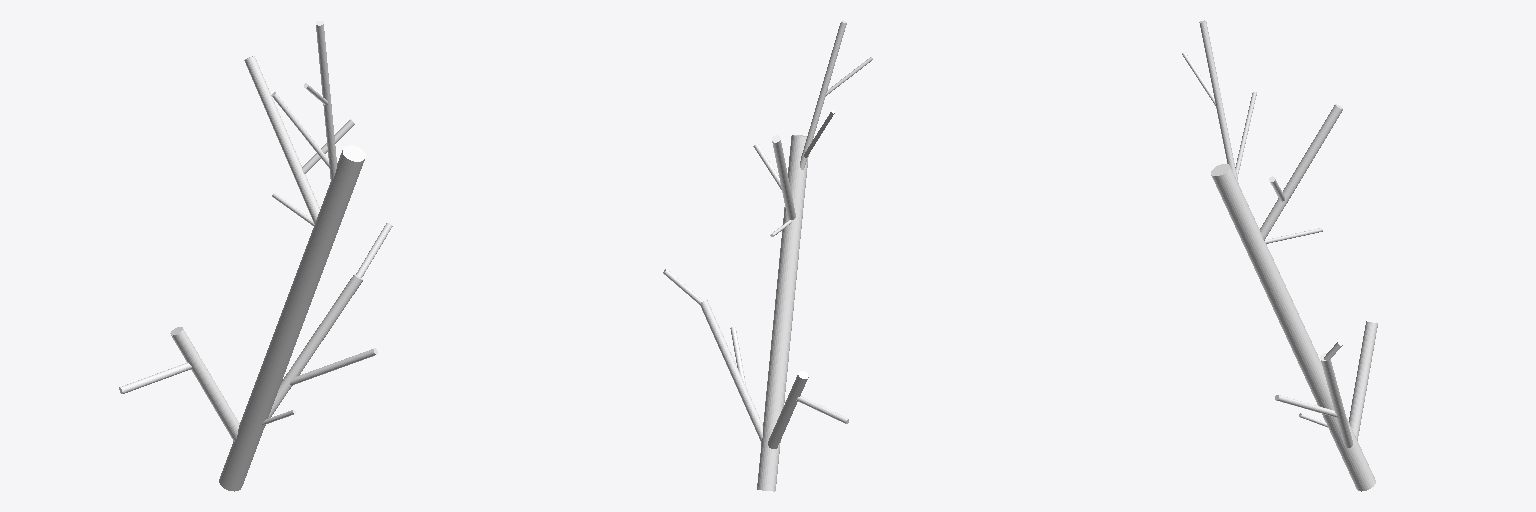
The robot description file, URDF, robot "tree_47.urdf":
<?xml version='1.0' encoding='UTF-8'?>
<robot name="tree_47.urdf">
  <link name="branch_0">
    <inertial>
      <origin xyz="0.0 0.0 0.0" rpy="0.0 -0.0 0.0"/>
      <mass value="1.0"/>
      <inertia ixx="1.0" ixy="0.0" ixz="0.0" iyy="1.0" iyz="0.0" izz="1.0"/>
    </inertial>
    <visual name="branch_0_visual">
      <geometry>
        <cylinder radius="0.20297303591351884" length="7.614582945326939"/>
      </geometry>
      <material name="branch_material"/>
      <origin xyz="0.3821555803479111 -1.4027548832091687 3.5187645854557754" rpy="-1.3877787807814457e-17 0.39181555129218987 -1.3048189551330494"/>
    </visual>
    <collision name="branch_0_collision">
      <geometry>
        <cylinder radius="0.20297303591351884" length="7.614582945326939"/>
      </geometry>
      <origin xyz="0.3821555803479111 -1.4027548832091687 3.5187645854557754" rpy="-1.3877787807814457e-17 0.39181555129218987 -1.3048189551330494"/>
    </collision>
  </link>
  <link name="branch_1">
    <inertial>
      <origin xyz="0.0 0.0 0.0" rpy="0.0 -0.0 0.0"/>
      <mass value="1.0"/>
      <inertia ixx="1.0" ixy="0.0" ixz="0.0" iyy="1.0" iyz="0.0" izz="1.0"/>
    </inertial>
    <visual name="branch_1_visual">
      <geometry>
        <cylinder radius="0.09334272414692758" length="3.5093246347252682"/>
      </geometry>
      <material name="branch_material"/>
      <origin xyz="0.0 0.0 0.0" rpy="0.0 -0.0 0.0"/>
    </visual>
    <collision name="branch_1_collision">
      <geometry>
        <cylinder radius="0.09334272414692758" length="3.5093246347252682"/>
      </geometry>
      <origin xyz="0.0 0.0 0.0" rpy="0.0 -0.0 0.0"/>
    </collision>
  </link>
  <link name="branch_2">
    <inertial>
      <origin xyz="0.0 0.0 0.0" rpy="0.0 -0.0 0.0"/>
      <mass value="1.0"/>
      <inertia ixx="1.0" ixy="0.0" ixz="0.0" iyy="1.0" iyz="0.0" izz="1.0"/>
    </inertial>
    <visual name="branch_2_visual">
      <geometry>
        <cylinder radius="0.058755766584249594" length="1.8037338163133265"/>
      </geometry>
      <material name="branch_material"/>
      <origin xyz="0.0 0.0 0.0" rpy="0.0 -0.0 0.0"/>
    </visual>
    <collision name="branch_2_collision">
      <geometry>
        <cylinder radius="0.058755766584249594" length="1.8037338163133265"/>
      </geometry>
      <origin xyz="0.0 0.0 0.0" rpy="0.0 -0.0 0.0"/>
    </collision>
  </link>
  <link name="branch_3">
    <inertial>
      <origin xyz="0.0 0.0 0.0" rpy="0.0 -0.0 0.0"/>
      <mass value="1.0"/>
      <inertia ixx="1.0" ixy="0.0" ixz="0.0" iyy="1.0" iyz="0.0" izz="1.0"/>
    </inertial>
    <visual name="branch_3_visual">
      <geometry>
        <cylinder radius="0.05971905265575855" length="1.15987380870914"/>
      </geometry>
      <material name="branch_material"/>
      <origin xyz="0.0 0.0 0.0" rpy="0.0 -0.0 0.0"/>
    </visual>
    <collision name="branch_3_collision">
      <geometry>
        <cylinder radius="0.05971905265575855" length="1.15987380870914"/>
      </geometry>
      <origin xyz="0.0 0.0 0.0" rpy="0.0 -0.0 0.0"/>
    </collision>
  </link>
  <link name="branch_4">
    <inertial>
      <origin xyz="0.0 0.0 0.0" rpy="0.0 -0.0 0.0"/>
      <mass value="1.0"/>
      <inertia ixx="1.0" ixy="0.0" ixz="0.0" iyy="1.0" iyz="0.0" izz="1.0"/>
    </inertial>
    <visual name="branch_4_visual">
      <geometry>
        <cylinder radius="0.11791970876996395" length="2.4790176174315763"/>
      </geometry>
      <material name="branch_material"/>
      <origin xyz="0.0 0.0 0.0" rpy="0.0 -0.0 0.0"/>
    </visual>
    <collision name="branch_4_collision">
      <geometry>
        <cylinder radius="0.11791970876996395" length="2.4790176174315763"/>
      </geometry>
      <origin xyz="0.0 0.0 0.0" rpy="0.0 -0.0 0.0"/>
    </collision>
  </link>
  <link name="branch_5">
    <inertial>
      <origin xyz="0.0 0.0 0.0" rpy="0.0 -0.0 0.0"/>
      <mass value="1.0"/>
      <inertia ixx="1.0" ixy="0.0" ixz="0.0" iyy="1.0" iyz="0.0" izz="1.0"/>
    </inertial>
    <visual name="branch_5_visual">
      <geometry>
        <cylinder radius="0.06402130539591318" length="1.4054515464013335"/>
      </geometry>
      <material name="branch_material"/>
      <origin xyz="0.0 0.0 0.0" rpy="0.0 -0.0 0.0"/>
    </visual>
    <collision name="branch_5_collision">
      <geometry>
        <cylinder radius="0.06402130539591318" length="1.4054515464013335"/>
      </geometry>
      <origin xyz="0.0 0.0 0.0" rpy="0.0 -0.0 0.0"/>
    </collision>
  </link>
  <link name="branch_6">
    <inertial>
      <origin xyz="0.0 0.0 0.0" rpy="0.0 -0.0 0.0"/>
      <mass value="1.0"/>
      <inertia ixx="1.0" ixy="0.0" ixz="0.0" iyy="1.0" iyz="0.0" izz="1.0"/>
    </inertial>
    <visual name="branch_6_visual">
      <geometry>
        <cylinder radius="0.040021287571716496" length="1.3178131335364924"/>
      </geometry>
      <material name="branch_material"/>
      <origin xyz="0.0 0.0 0.0" rpy="0.0 -0.0 0.0"/>
    </visual>
    <collision name="branch_6_collision">
      <geometry>
        <cylinder radius="0.040021287571716496" length="1.3178131335364924"/>
      </geometry>
      <origin xyz="0.0 0.0 0.0" rpy="0.0 -0.0 0.0"/>
    </collision>
  </link>
  <link name="branch_7">
    <inertial>
      <origin xyz="0.0 0.0 0.0" rpy="0.0 -0.0 0.0"/>
      <mass value="1.0"/>
      <inertia ixx="1.0" ixy="0.0" ixz="0.0" iyy="1.0" iyz="0.0" izz="1.0"/>
    </inertial>
    <visual name="branch_7_visual">
      <geometry>
        <cylinder radius="0.09481942845844499" length="3.191616999524881"/>
      </geometry>
      <material name="branch_material"/>
      <origin xyz="0.0 0.0 0.0" rpy="0.0 -0.0 0.0"/>
    </visual>
    <collision name="branch_7_collision">
      <geometry>
        <cylinder radius="0.09481942845844499" length="3.191616999524881"/>
      </geometry>
      <origin xyz="0.0 0.0 0.0" rpy="0.0 -0.0 0.0"/>
    </collision>
  </link>
  <link name="branch_8">
    <inertial>
      <origin xyz="0.0 0.0 0.0" rpy="0.0 -0.0 0.0"/>
      <mass value="1.0"/>
      <inertia ixx="1.0" ixy="0.0" ixz="0.0" iyy="1.0" iyz="0.0" izz="1.0"/>
    </inertial>
    <visual name="branch_8_visual">
      <geometry>
        <cylinder radius="0.05836546061170544" length="1.2664888906709098"/>
      </geometry>
      <material name="branch_material"/>
      <origin xyz="0.0 0.0 0.0" rpy="0.0 -0.0 0.0"/>
    </visual>
    <collision name="branch_8_collision">
      <geometry>
        <cylinder radius="0.05836546061170544" length="1.2664888906709098"/>
      </geometry>
      <origin xyz="0.0 0.0 0.0" rpy="0.0 -0.0 0.0"/>
    </collision>
  </link>
  <link name="branch_9">
    <inertial>
      <origin xyz="0.0 0.0 0.0" rpy="0.0 -0.0 0.0"/>
      <mass value="1.0"/>
      <inertia ixx="1.0" ixy="0.0" ixz="0.0" iyy="1.0" iyz="0.0" izz="1.0"/>
    </inertial>
    <visual name="branch_9_visual">
      <geometry>
        <cylinder radius="0.04" length="1.296003652010767"/>
      </geometry>
      <material name="branch_material"/>
      <origin xyz="0.0 0.0 0.0" rpy="0.0 -0.0 0.0"/>
    </visual>
    <collision name="branch_9_collision">
      <geometry>
        <cylinder radius="0.04" length="1.296003652010767"/>
      </geometry>
      <origin xyz="0.0 0.0 0.0" rpy="0.0 -0.0 0.0"/>
    </collision>
  </link>
  <link name="branch_10">
    <inertial>
      <origin xyz="0.0 0.0 0.0" rpy="0.0 -0.0 0.0"/>
      <mass value="1.0"/>
      <inertia ixx="1.0" ixy="0.0" ixz="0.0" iyy="1.0" iyz="0.0" izz="1.0"/>
    </inertial>
    <visual name="branch_10_visual">
      <geometry>
        <cylinder radius="0.06777291607186137" length="3.8912538570131696"/>
      </geometry>
      <material name="branch_material"/>
      <origin xyz="0.0 0.0 0.0" rpy="0.0 -0.0 0.0"/>
    </visual>
    <collision name="branch_10_collision">
      <geometry>
        <cylinder radius="0.06777291607186137" length="3.8912538570131696"/>
      </geometry>
      <origin xyz="0.0 0.0 0.0" rpy="0.0 -0.0 0.0"/>
    </collision>
  </link>
  <link name="branch_11">
    <inertial>
      <origin xyz="0.0 0.0 0.0" rpy="0.0 -0.0 0.0"/>
      <mass value="1.0"/>
      <inertia ixx="1.0" ixy="0.0" ixz="0.0" iyy="1.0" iyz="0.0" izz="1.0"/>
    </inertial>
    <visual name="branch_11_visual">
      <geometry>
        <cylinder radius="0.04388095174036332" length="1.7726101444679998"/>
      </geometry>
      <material name="branch_material"/>
      <origin xyz="0.0 0.0 0.0" rpy="0.0 -0.0 0.0"/>
    </visual>
    <collision name="branch_11_collision">
      <geometry>
        <cylinder radius="0.04388095174036332" length="1.7726101444679998"/>
      </geometry>
      <origin xyz="0.0 0.0 0.0" rpy="0.0 -0.0 0.0"/>
    </collision>
  </link>
  <link name="branch_12">
    <inertial>
      <origin xyz="0.0 0.0 0.0" rpy="0.0 -0.0 0.0"/>
      <mass value="1.0"/>
      <inertia ixx="1.0" ixy="0.0" ixz="0.0" iyy="1.0" iyz="0.0" izz="1.0"/>
    </inertial>
    <visual name="branch_12_visual">
      <geometry>
        <cylinder radius="0.04" length="1.354840448095186"/>
      </geometry>
      <material name="branch_material"/>
      <origin xyz="0.0 0.0 0.0" rpy="0.0 -0.0 0.0"/>
    </visual>
    <collision name="branch_12_collision">
      <geometry>
        <cylinder radius="0.04" length="1.354840448095186"/>
      </geometry>
      <origin xyz="0.0 0.0 0.0" rpy="0.0 -0.0 0.0"/>
    </collision>
  </link>
  <joint name="joint_0_1" type="fixed">
    <parent link="branch_0"/>
    <child link="branch_1"/>
    <axis xyz="1. 0. 0."/>
    <origin xyz="1.0487636511632232 -0.5508707401918429 2.210559217361925" rpy="0.43192198285254507 0.43605834993563136 0.5801195038451764"/>
  </joint>
  <joint name="joint_0_4" type="fixed">
    <parent link="branch_0"/>
    <child link="branch_4"/>
    <axis xyz="1. 0. 0."/>
    <origin xyz="-0.44736674708806445 -0.1033480331026067 1.8927539629053658" rpy="-0.22347093771820423 0.43089593151107203 2.26287976812891"/>
  </joint>
  <joint name="joint_0_7" type="fixed">
    <parent link="branch_0"/>
    <child link="branch_7"/>
    <axis xyz="1. 0. 0."/>
    <origin xyz="0.31872970663455474 -1.325622647193461 6.695400922620024" rpy="-0.014194384727851988 0.5581325585802153 1.8584019157062295"/>
  </joint>
  <joint name="joint_0_10" type="fixed">
    <parent link="branch_0"/>
    <child link="branch_10"/>
    <axis xyz="1. 0. 0."/>
    <origin xyz="0.2788918491330923 -2.776165035140468 7.9117167387647305" rpy="-0.2686543516799981 0.056886071590147934 2.548833209610608"/>
  </joint>
  <joint name="joint_1_2" type="fixed">
    <parent link="branch_0"/>
    <child link="branch_2"/>
    <axis xyz="1. 0. 0."/>
    <origin xyz="1.30703840859114 -1.1040672329806822 2.272907020409745" rpy="-0.7992823983217453 0.8235881236016916 -1.83721020921244"/>
  </joint>
  <joint name="joint_1_3" type="fixed">
    <parent link="branch_0"/>
    <child link="branch_3"/>
    <axis xyz="1. 0. 0."/>
    <origin xyz="2.3717000936787147 -0.6348841103310027 3.9437596071320296" rpy="0.6882414819778637 0.5723688560405378 1.327019018065531"/>
  </joint>
  <joint name="joint_4_5" type="fixed">
    <parent link="branch_0"/>
    <child link="branch_5"/>
    <axis xyz="1. 0. 0."/>
    <origin xyz="-1.371089364580915 0.04466537883085204 2.2570512700150647" rpy="2.42405295134992 1.353360693362016 -0.8088103732540404"/>
  </joint>
  <joint name="joint_4_6" type="fixed">
    <parent link="branch_0"/>
    <child link="branch_6"/>
    <axis xyz="1. 0. 0."/>
    <origin xyz="0.2285078245515706 -0.7695975534647295 1.3838626621811865" rpy="0.4803742405418498 0.9700230815175584 -0.5178836181371467"/>
  </joint>
  <joint name="joint_7_8" type="fixed">
    <parent link="branch_0"/>
    <child link="branch_8"/>
    <axis xyz="1. 0. 0."/>
    <origin xyz="0.8596227225569822 -1.705685986652087 6.666554455575319" rpy="-0.4850327962687833 0.6957931237725616 -0.9215674465595809"/>
  </joint>
  <joint name="joint_7_9" type="fixed">
    <parent link="branch_0"/>
    <child link="branch_9"/>
    <axis xyz="1. 0. 0."/>
    <origin xyz="0.4601715049272808 -1.4759956492260398 5.479405868453163" rpy="-0.5550953139129503 1.3906402436199825 1.184919678889418"/>
  </joint>
  <joint name="joint_10_11" type="fixed">
    <parent link="branch_0"/>
    <child link="branch_11"/>
    <axis xyz="1. 0. 0."/>
    <origin xyz="0.058204348185324446 -2.338894000239379 7.412716292442246" rpy="-0.31906468919735814 0.5277332260011927 2.1642532673438915"/>
  </joint>
  <joint name="joint_10_12" type="fixed">
    <parent link="branch_0"/>
    <child link="branch_12"/>
    <axis xyz="1. 0. 0."/>
    <origin xyz="-0.16488993142412126 -3.1616217510761677 8.482862257001997" rpy="-0.03812761965152233 0.9260103384485537 -2.479160969002609"/>
  </joint>
  <material name="branch_material">
    <color rgba="1. 1. 1. 1."/>
  </material>
</robot>

--- Render facts (derived) ---
3 views of the same robot in one strip: view 1: azimuth 30°, elevation 25°; view 2: azimuth 150°, elevation 25°; view 3: azimuth 270°, elevation 25° (orthographic).
Robot: tree_47.urdf — 13 links, 12 joints (12 fixed); root link branch_0; default pose: every joint at zero.
Visible links, largest first — view 1: branch_0, branch_7, branch_4, branch_1, branch_10, branch_2, branch_5; view 2: branch_0, branch_1, branch_10, branch_4, branch_7; view 3: branch_0, branch_7, branch_4, branch_10, branch_1.
Boxes of the visible links, x1,y1,x2,y2 form: branch_0: (219, 145, 365, 491); branch_7: (244, 56, 319, 223); branch_4: (170, 327, 239, 441); branch_1: (265, 274, 362, 425); branch_10: (316, 21, 336, 181); branch_2: (290, 348, 377, 385); branch_5: (119, 363, 191, 393); branch_0: (757, 135, 808, 491); branch_1: (701, 300, 762, 442); branch_10: (800, 20, 846, 169); branch_4: (768, 371, 808, 448); branch_7: (772, 135, 795, 219); branch_0: (1211, 164, 1375, 491); branch_7: (1260, 104, 1342, 240); branch_4: (1349, 321, 1377, 440); branch_10: (1199, 20, 1238, 183); branch_1: (1320, 353, 1352, 447).
Bounding box of the posed robot: 4.9 × 3.77 × 9.88 m (x, y, z).
Geometry: primitives only (box / cylinder / sphere), no mesh files.